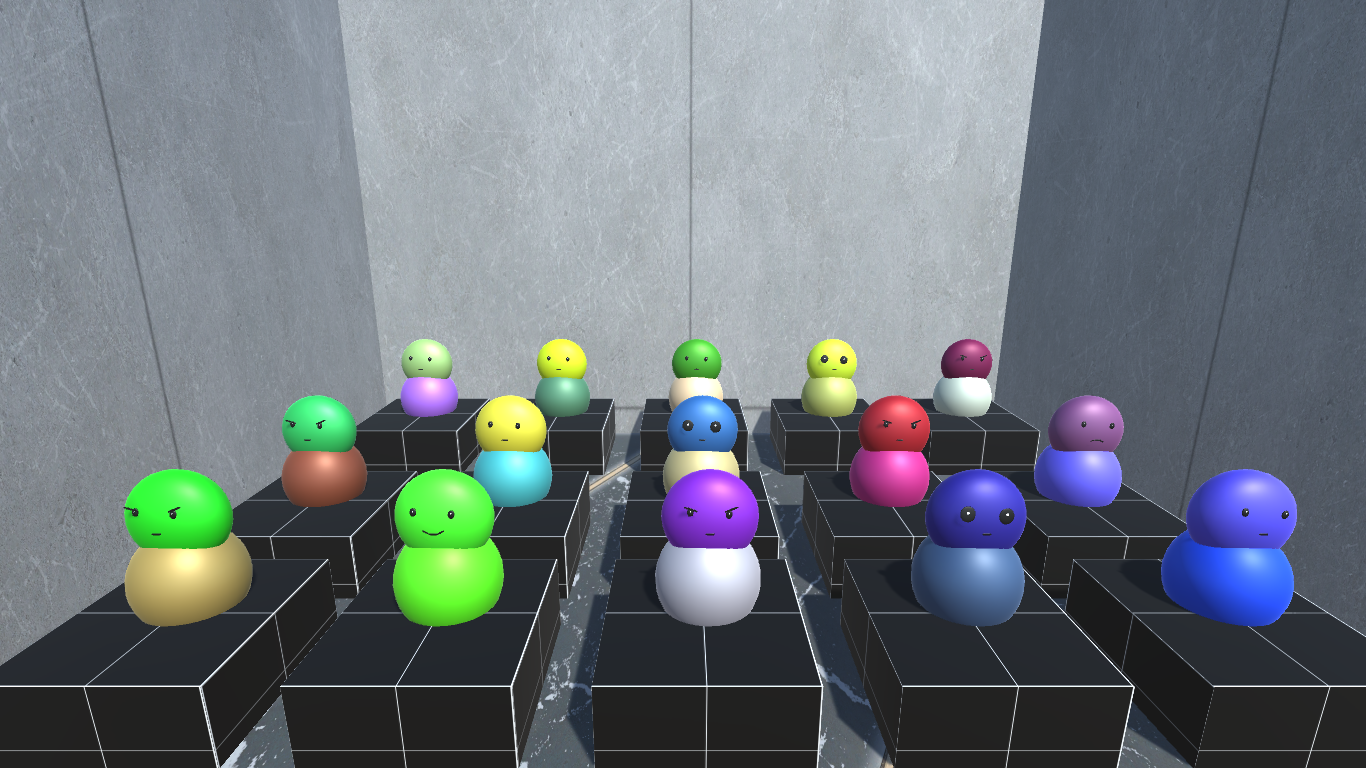blob_atento: (907, 473, 1035, 640), (662, 393, 741, 494), (801, 334, 865, 420)
blob_feliz: (394, 465, 509, 628)
blob_normal: (1165, 470, 1305, 629), (472, 395, 558, 509), (664, 333, 727, 417), (534, 338, 596, 420), (398, 334, 458, 417)
blob_raiva: (118, 466, 250, 634), (646, 473, 762, 631), (272, 394, 374, 507), (854, 396, 931, 507), (932, 335, 1003, 425)
blob_triste: (1035, 390, 1126, 526)
